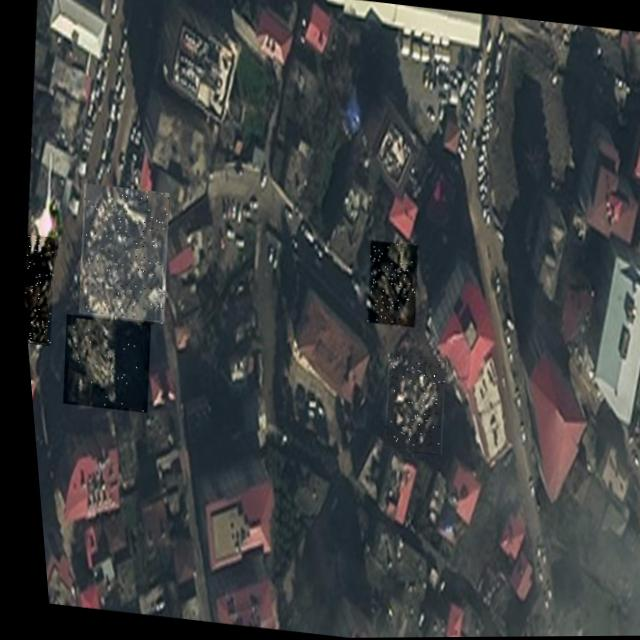Rubble: (65, 183, 174, 325), (51, 313, 151, 414), (370, 352, 445, 455), (356, 240, 419, 328), (15, 234, 57, 345)
